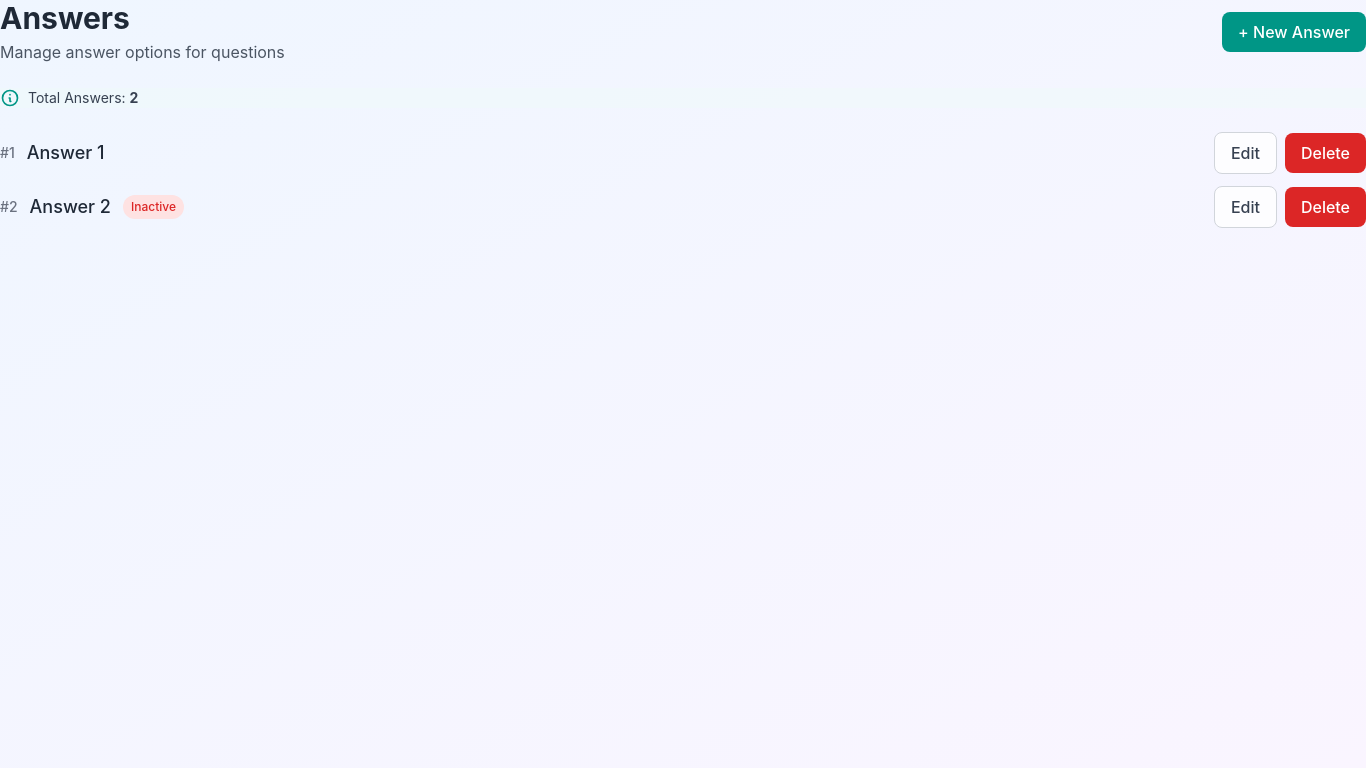
Scenario: AnswersPage › Modal Interactions › should close modal when close button is clicked
Click the button "+ New Answer". click: click(1294, 32)
box: [1222,12,1365,52]
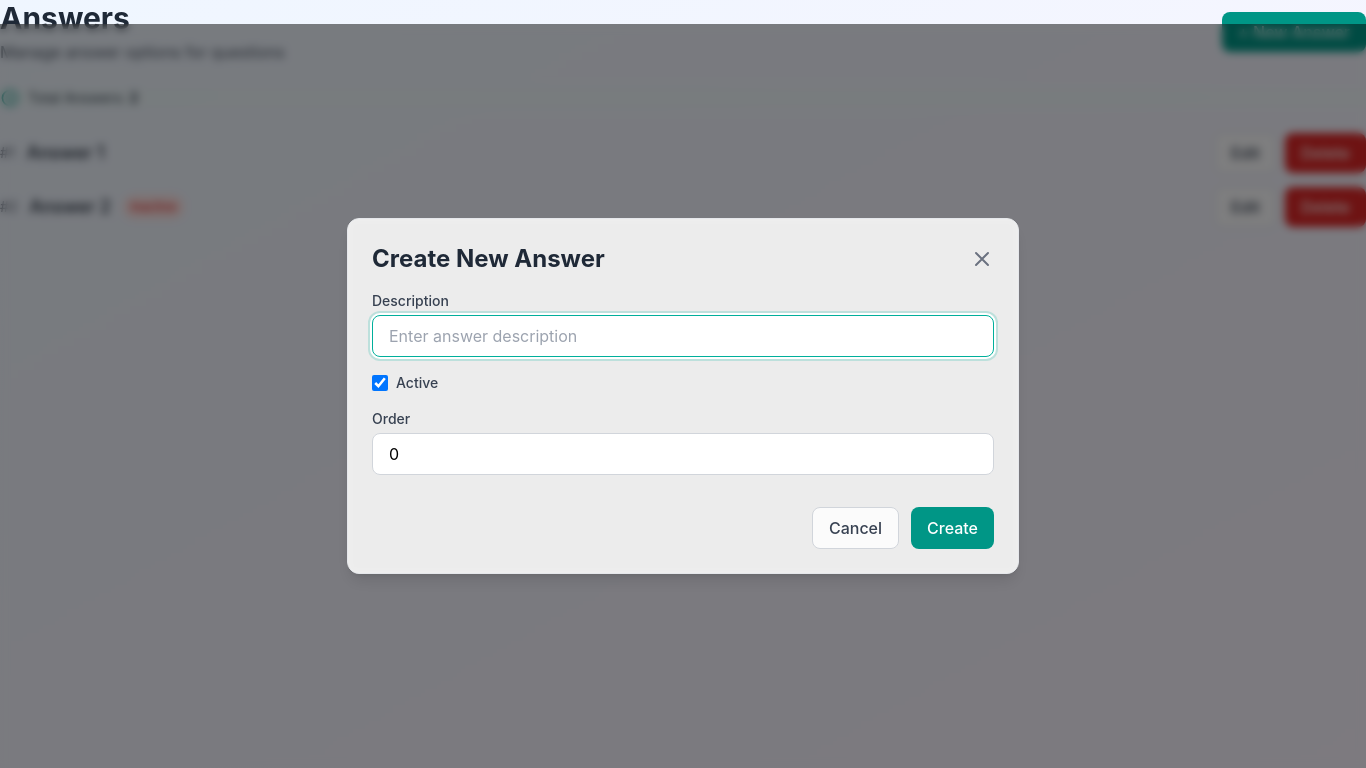
Check: the dialog is shown
Click the button named "Close modal". click: click(982, 259)
box: [970,247,994,271]
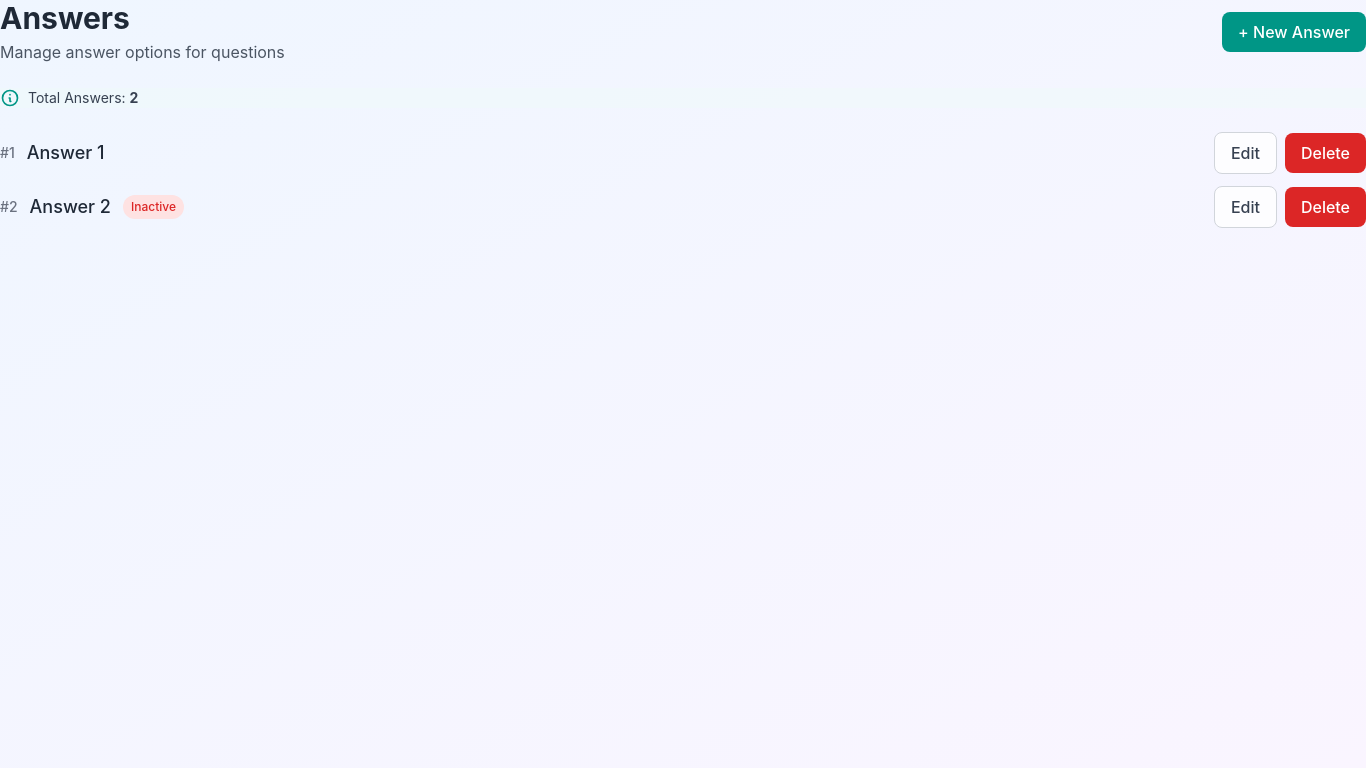
Check: the dialog is gone
